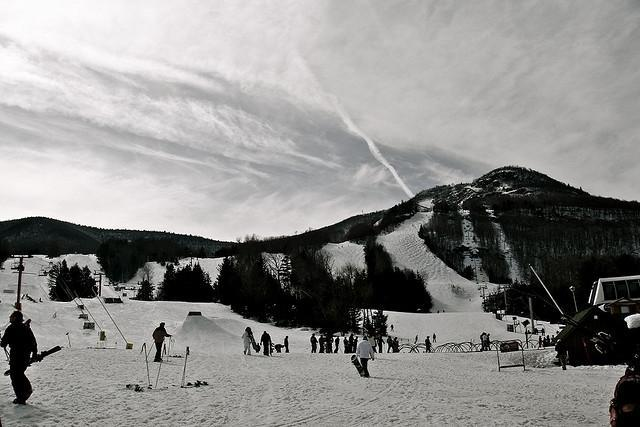truck: (586, 271, 640, 308)
